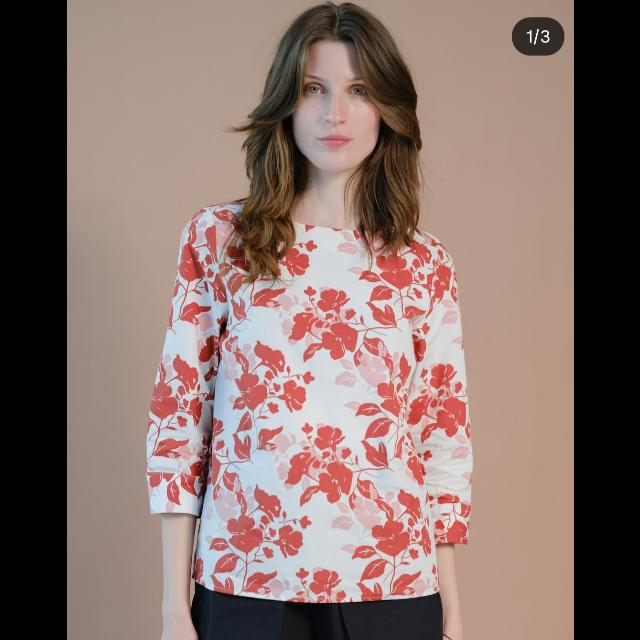top: (176, 214, 458, 596)
